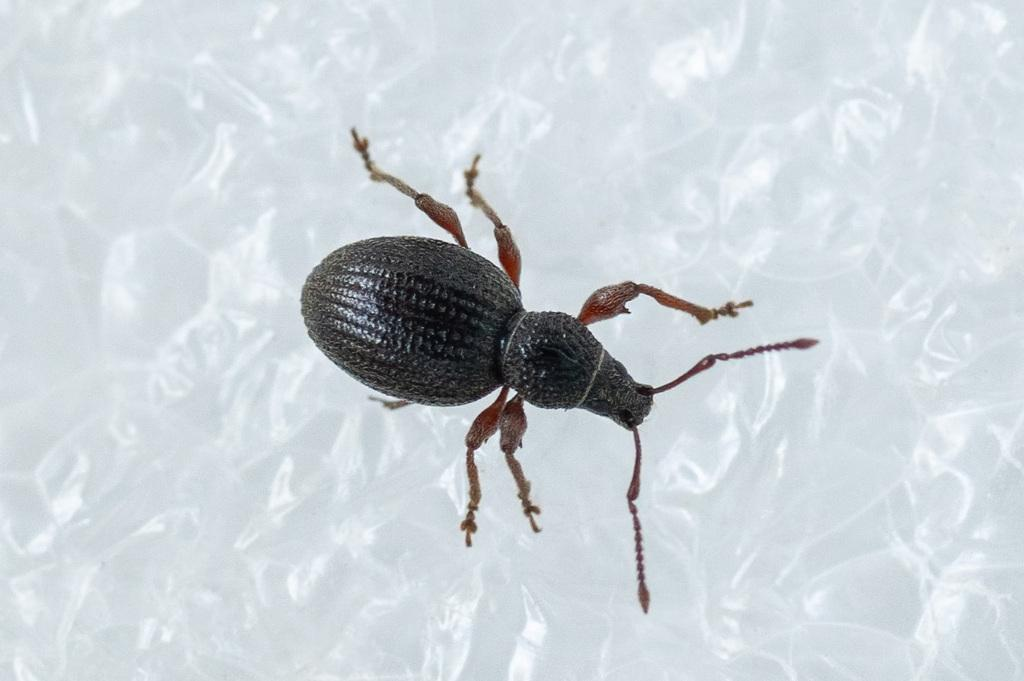weevils: (235, 64, 891, 680)
